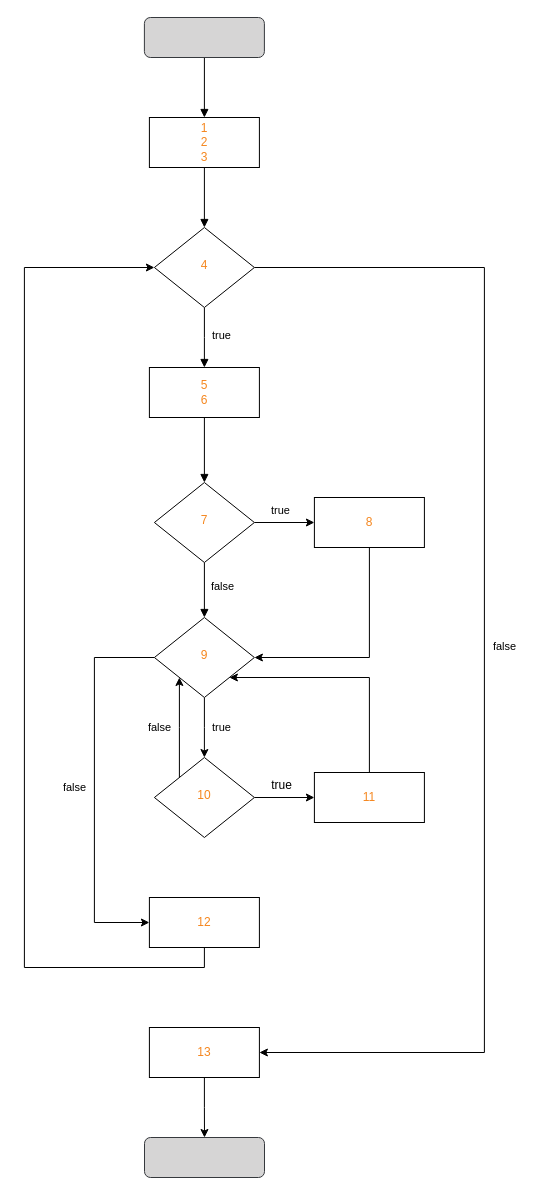
Some shapes in this 534 by 1195 pixel diagram are drawn without their labels. The shapes that lost their labels are listed below. From the top down, each one's centre as x and y in pixels, then its label:
the point at 203,37: entry
the point at 204,1157: end
